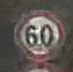limite 60: (11, 9, 68, 62)
